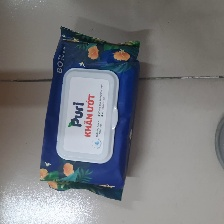Puri Xanh: (41, 24, 142, 202)
